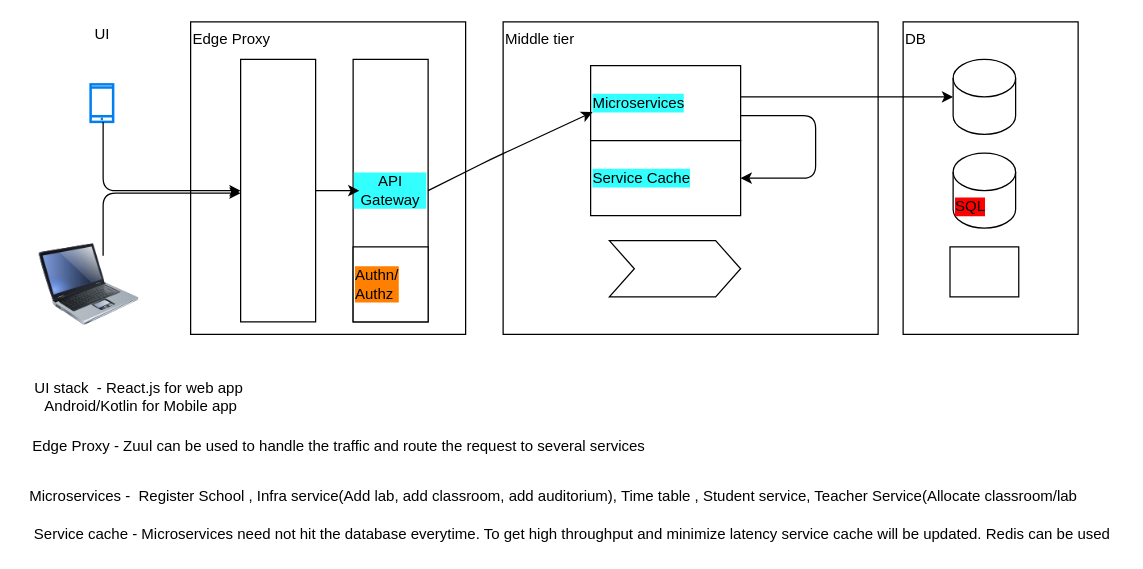
Some shapes in this 1143 by 569 pixel diagram are drawn without their labels. Here are the shapes that lost their labels. From the top down, the centre of each, then its label:
point 984,96: NoSQL
point 277,190: Load Balancer
point 674,268: Notification
point 984,271: S3 storage
